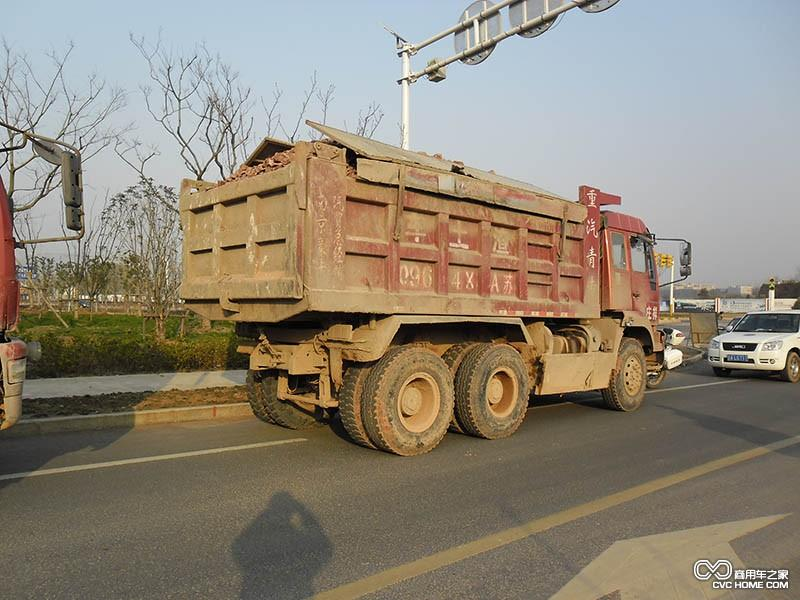truck: (154, 128, 677, 464)
